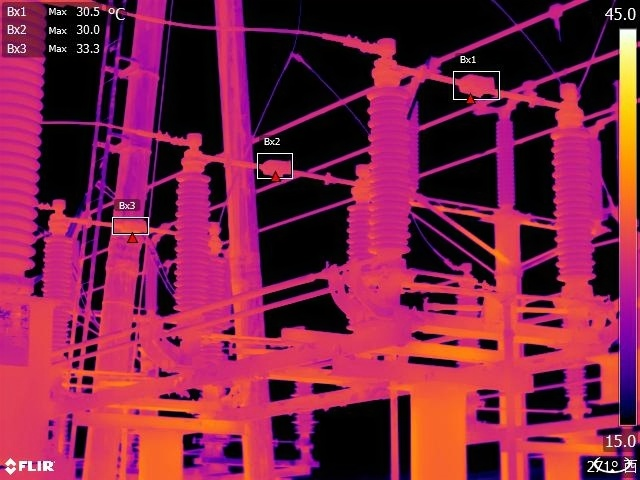clamp: (539, 1, 572, 29), (283, 43, 309, 72)
post insulator: (1, 1, 45, 304), (360, 51, 417, 255), (546, 125, 600, 281), (171, 163, 214, 314), (38, 232, 77, 360), (489, 110, 523, 209), (339, 201, 378, 261), (207, 254, 232, 328), (294, 376, 317, 443)
switch: (366, 46, 591, 124), (189, 145, 368, 198), (45, 204, 223, 253)
